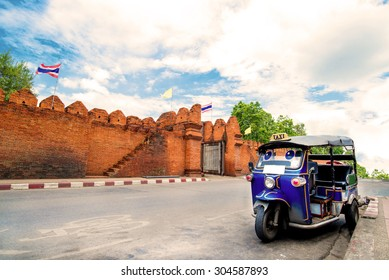threewheel: (246, 132, 360, 244)
